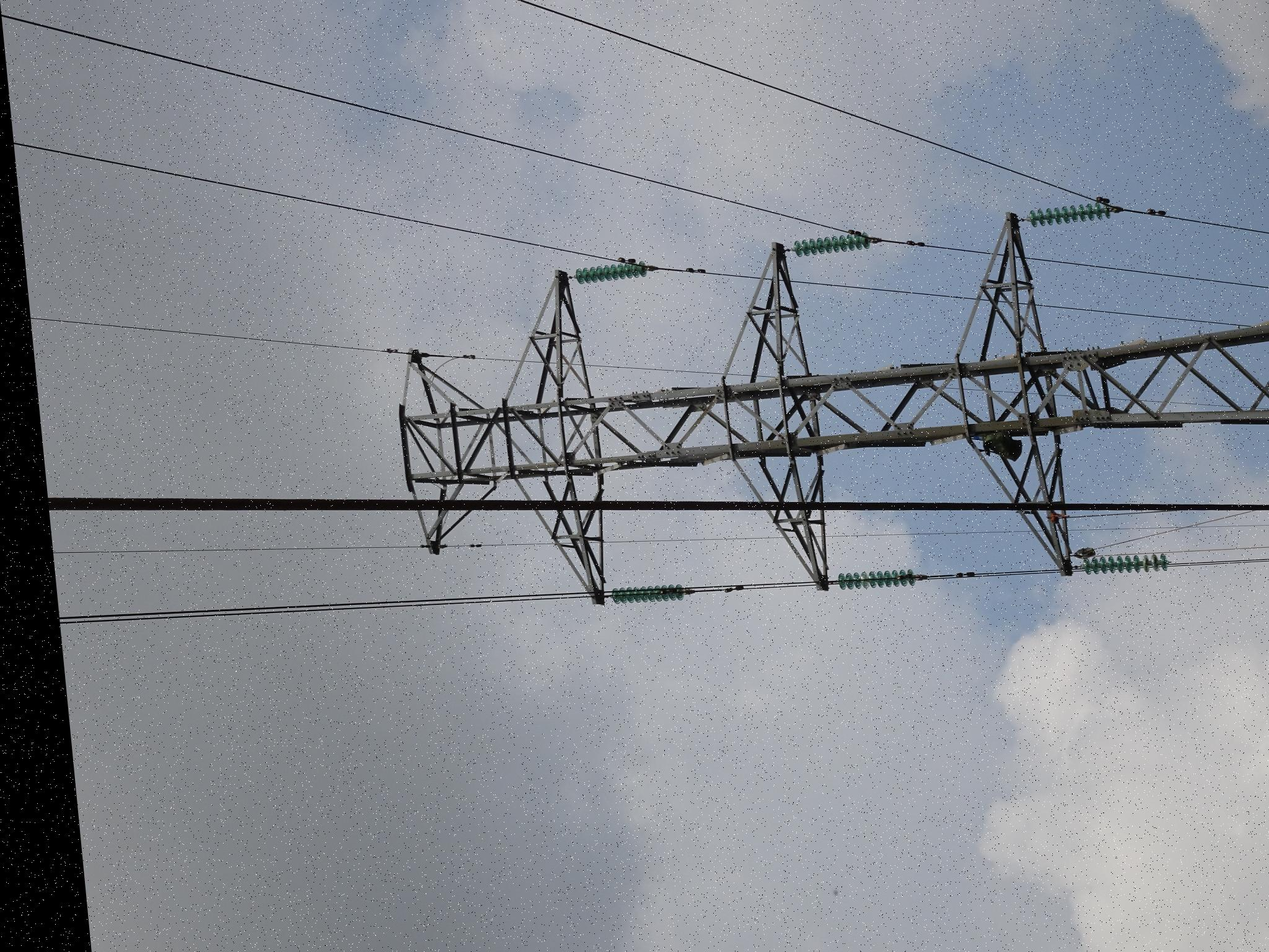tower: (183, 0, 679, 641)
